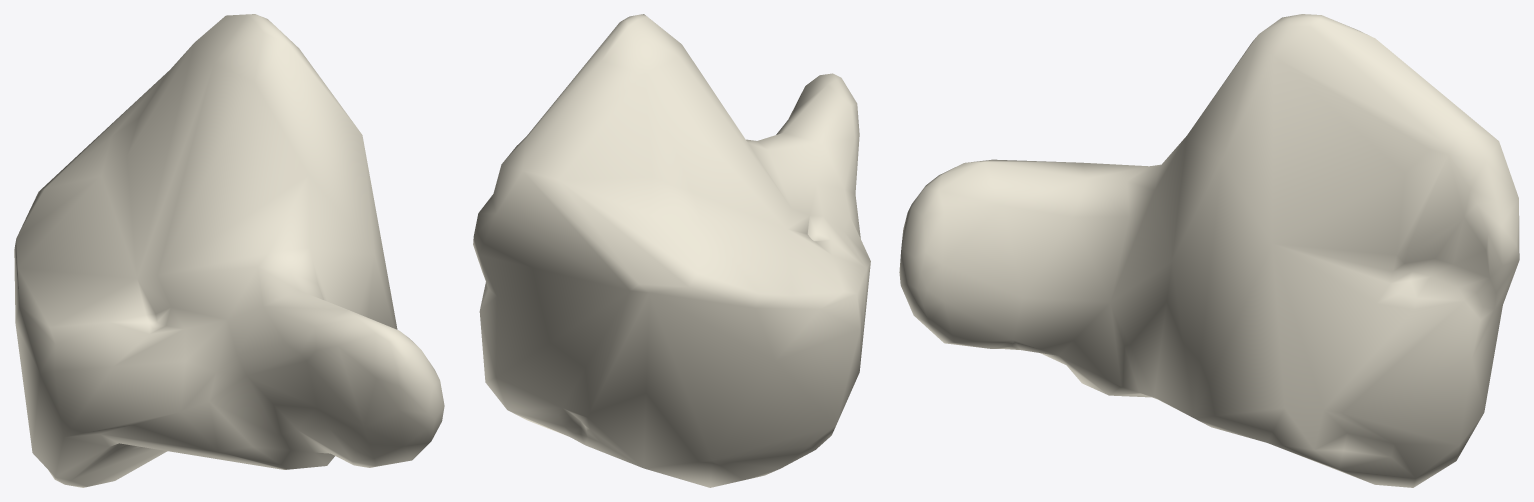
3 views of the same model, side by side, from view 1: azimuth 30°, elevation 25°; view 2: azimuth 150°, elevation 25°; view 3: azimuth 270°, elevation 25° (orthographic). The views are drawn at different scales.
Parts seen in each view (by area): view 1: ZA_58ce878642aa7c0f; view 2: ZA_58ce878642aa7c0f; view 3: ZA_58ce878642aa7c0f.
Boxes of the visible parts, box(x1,y1,x2,y2) form: ZA_58ce878642aa7c0f: box(14, 14, 444, 487); ZA_58ce878642aa7c0f: box(473, 14, 870, 487); ZA_58ce878642aa7c0f: box(899, 14, 1519, 487).
Bounding box in the file's own units: 0.0161 × 0.0202 × 0.0234.
